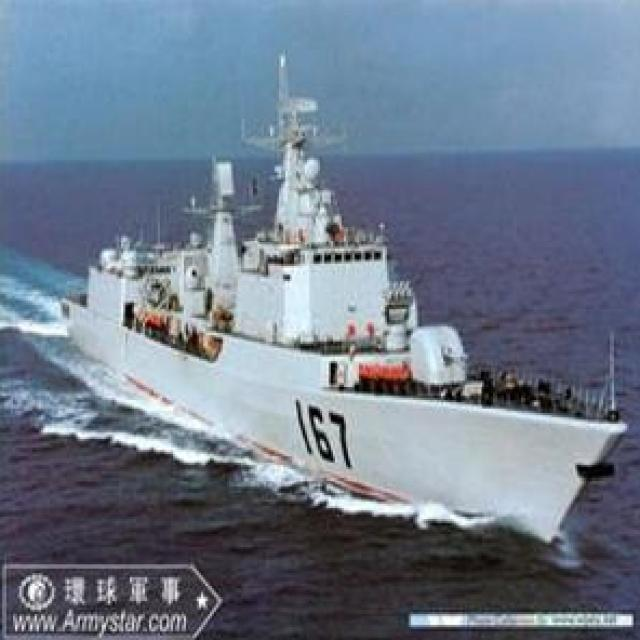navalvessels: (60, 78, 621, 540)
